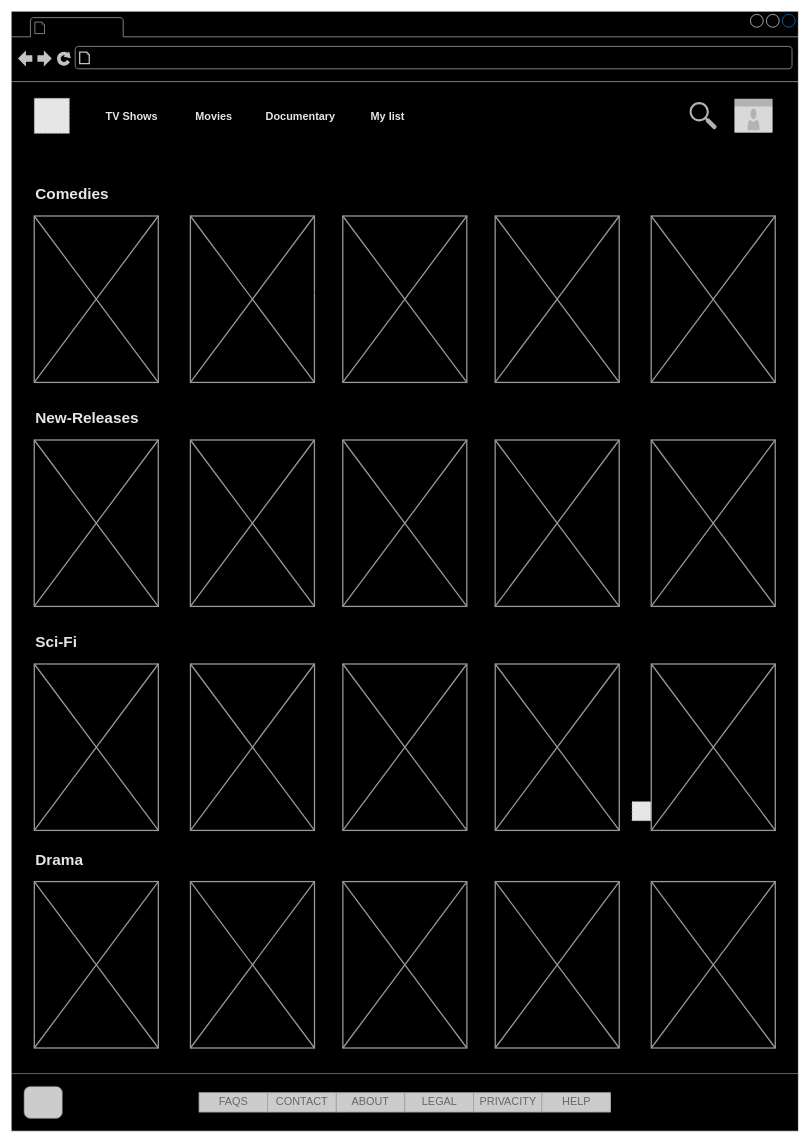
The diagram is 810 pixels wide and 1142 high, and some of its shapes have lost their labels. Grey dashed boxes stand in for pictures. The shapes that lost their labels are listed below. From the top down, each one's box as (x1, y1, x2, y2) in pixels, then its label:
(49, 18, 120, 36): Home
(94, 49, 254, 66): https://www.devflix.com/search
(734, 98, 772, 132): Profile
(23, 1086, 62, 1118): Lang
